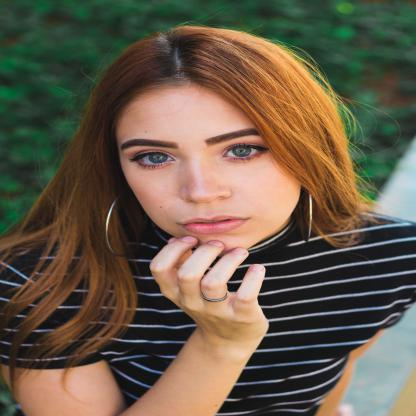Eye: (114, 145, 194, 175), (211, 140, 271, 170)
Mouth: (169, 212, 255, 234)
Nose: (176, 166, 234, 204)
